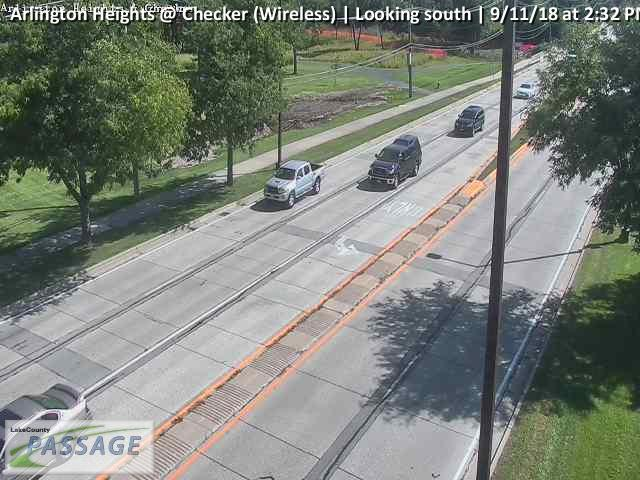Sedan: (1, 379, 93, 480), (368, 134, 425, 187), (455, 106, 485, 135), (515, 82, 538, 98)
Truck: (265, 160, 325, 207)
